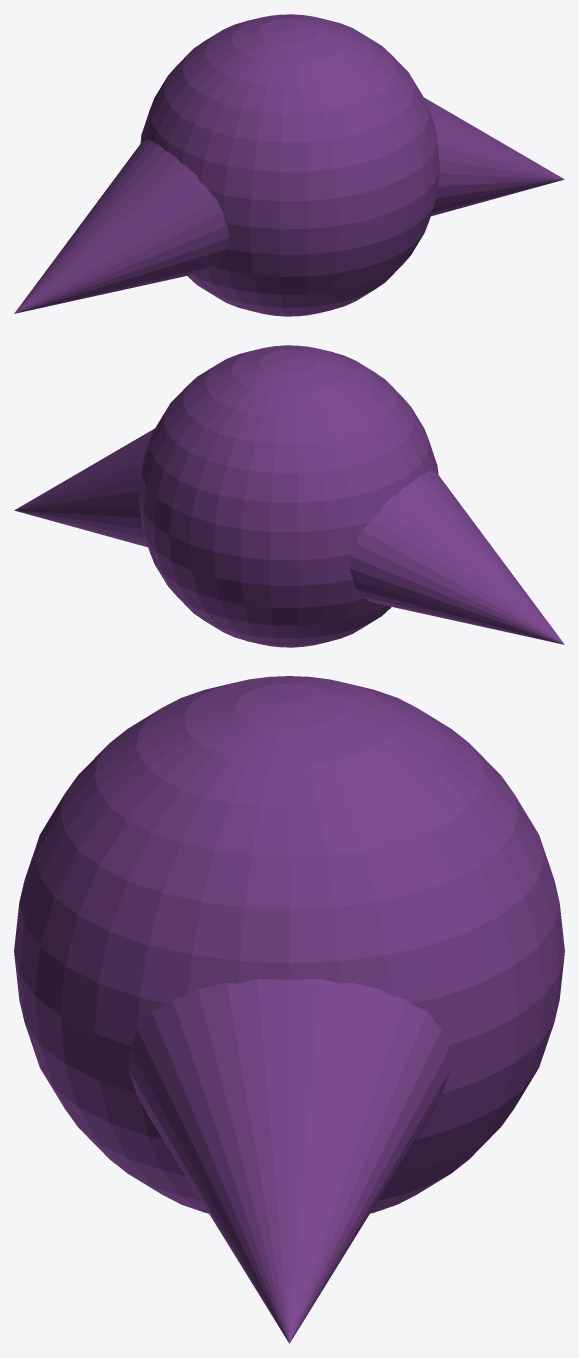
Rendered from Enemy.obj.
3 renders of one model, top to bottom at view 1: azimuth 30°, elevation 25°; view 2: azimuth 150°, elevation 25°; view 3: azimuth 270°, elevation 25°, orthographic. The views are drawn at different scales.
Visible parts, largest first — view 1: 円錐; view 2: 円錐; view 3: 円錐.
Part boxes in pixels (left/top/right/bottom): 円錐: left=14, top=14, right=564, bottom=316; 円錐: left=14, top=345, right=564, bottom=647; 円錐: left=14, top=676, right=564, bottom=1343.
Bounding box in the file's own units: 4.21 × 2 × 2.
Materials: 1 (1 with a texture image).
